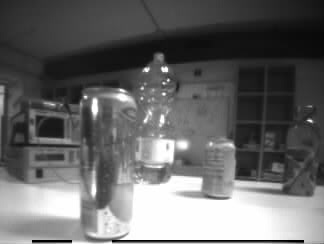Bottle: (134, 52, 179, 185), (283, 104, 319, 196)
Tin can: (77, 85, 138, 241), (200, 134, 237, 200)
